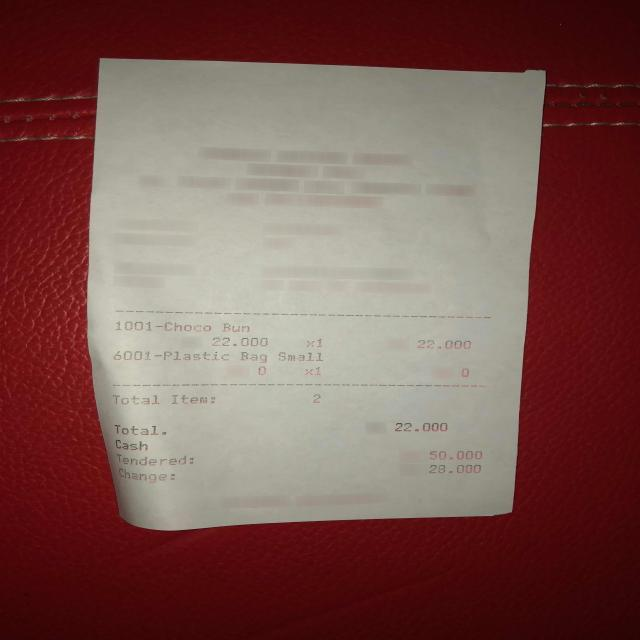kertas: (80, 57, 547, 541)
